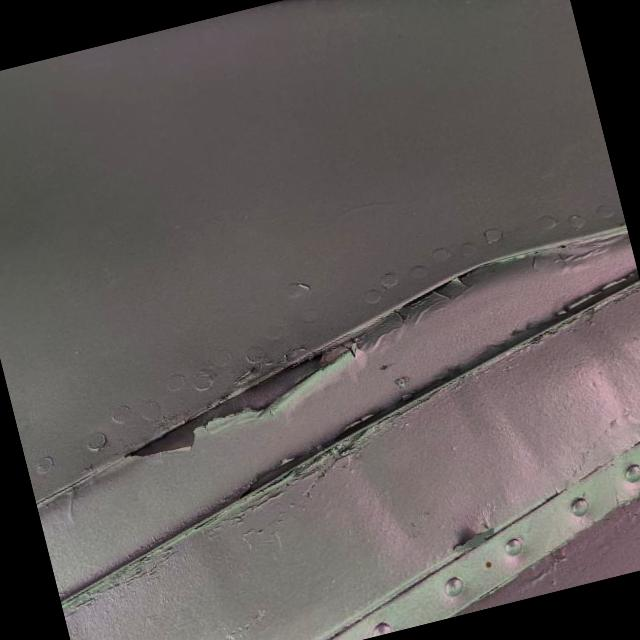paint-off: (88, 323, 386, 487)
